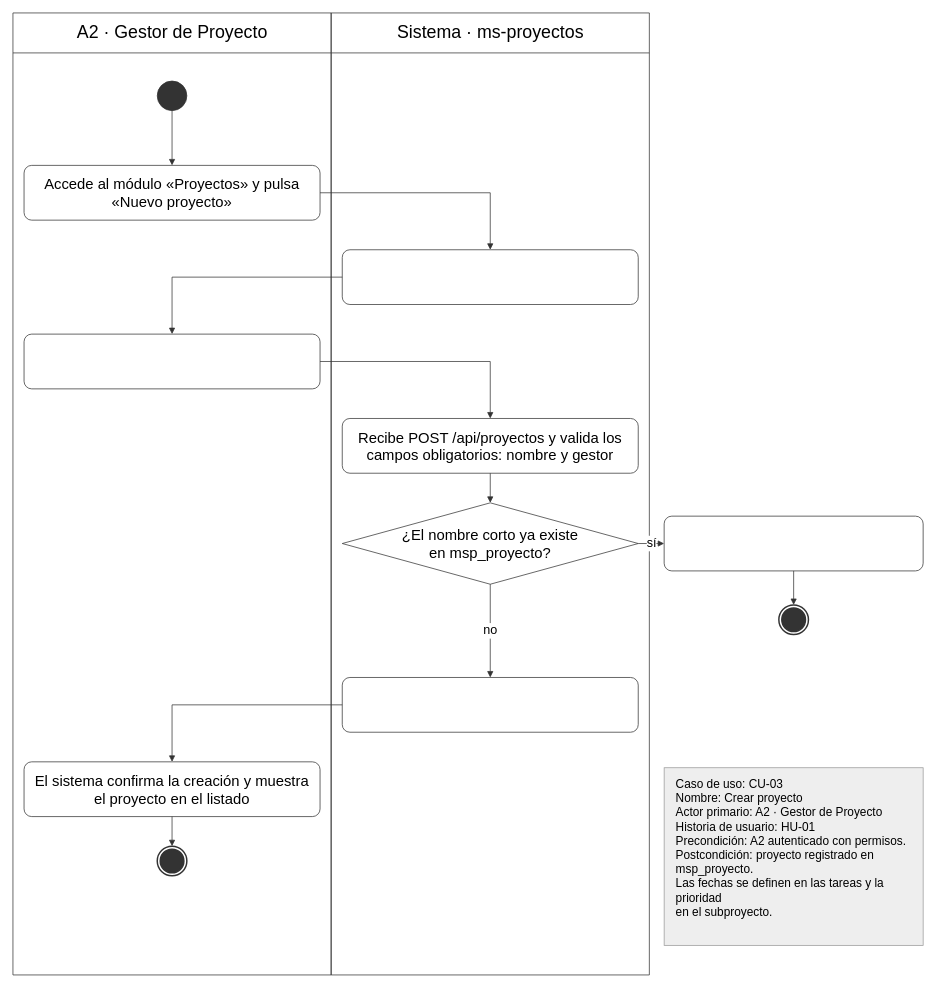
The diagram is 936 pixels wide and 988 high, and some of its shapes have lost their labels. The shapes that lost their labels are listed below. From the top down, each one's centre as x and y in pixels, then its label:
At pixel 490 277: "Muestra el formulario: nombre corto, nombre, descripción y gestor responsable".
At pixel 171 361: "Completa los datos y pulsa «Guardar»".
At pixel 793 543: "HTTP 409 · Ya existe un proyecto con ese nombre corto".
At pixel 490 704: "Persiste el proyecto en msp_proyecto con la auditoría inline".
